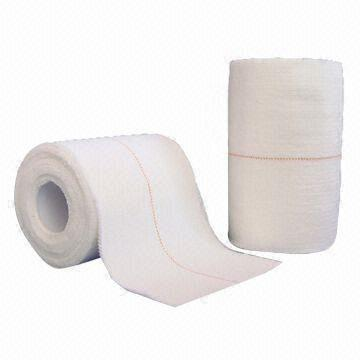bandage: (13, 132, 281, 309), (227, 57, 343, 254)
